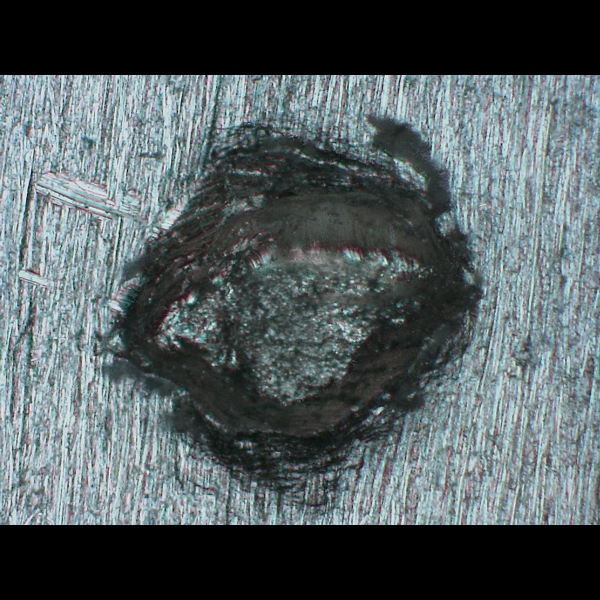d: (77, 99, 488, 519)
